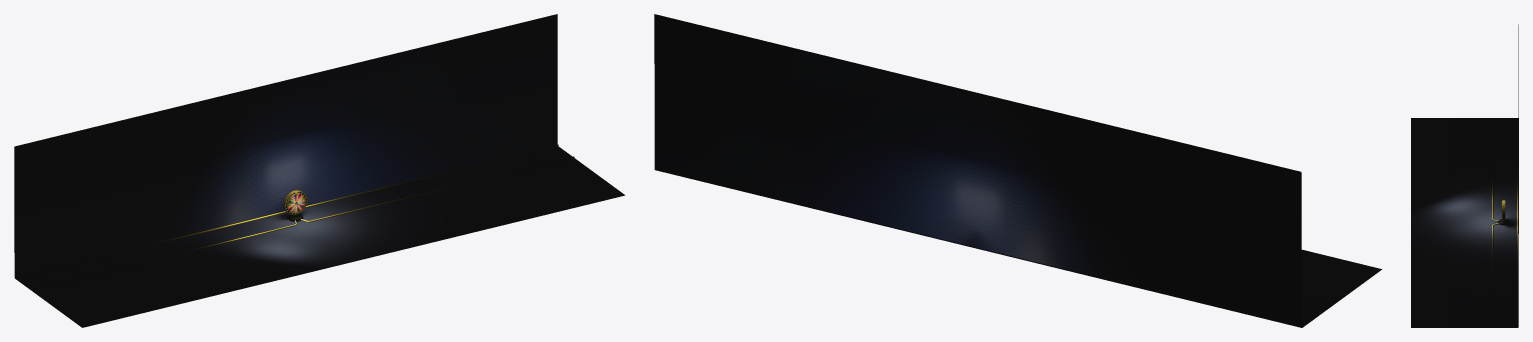
The picture shows the model from 3 angles, left to right: view 1: azimuth 30°, elevation 25°; view 2: azimuth 150°, elevation 25°; view 3: azimuth 270°, elevation 25°; orthographic projection. The views are drawn at different scales.
Visible parts, largest first — view 1: pasted__Plane.004; view 2: pasted__Plane.004; view 3: pasted__Plane.004.
Part boxes in pixels (left/top/right/bottom): pasted__Plane.004: left=14, top=14, right=625, bottom=327; pasted__Plane.004: left=654, top=14, right=1381, bottom=327; pasted__Plane.004: left=1411, top=24, right=1518, bottom=327.
Bounding box in the file's own units: 171 × 39.59 × 37.09.
1 material, 1 textured.
